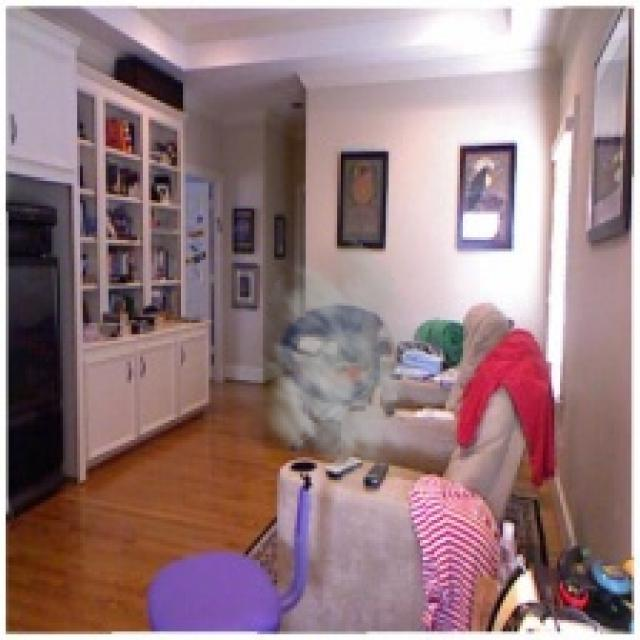smoke: (232, 226, 432, 494)
